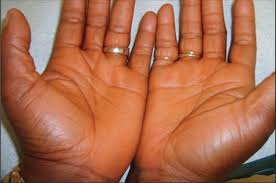palm: (159, 62, 245, 159), (43, 62, 128, 159)
